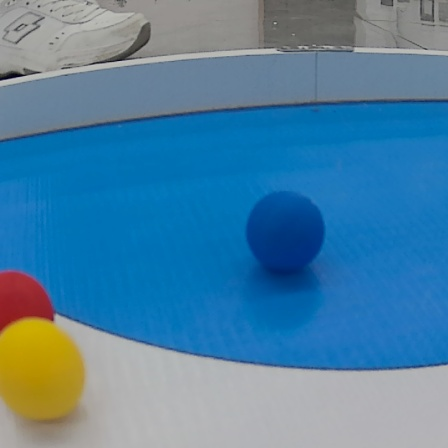blue: (247, 188, 327, 271)
blue_base: (2, 102, 448, 380)
red: (0, 252, 60, 353)
yellow: (0, 319, 86, 421)
